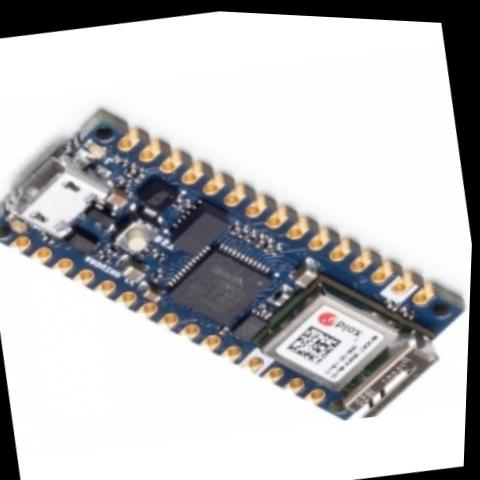Arduino-Nano: (0, 37, 479, 479)
